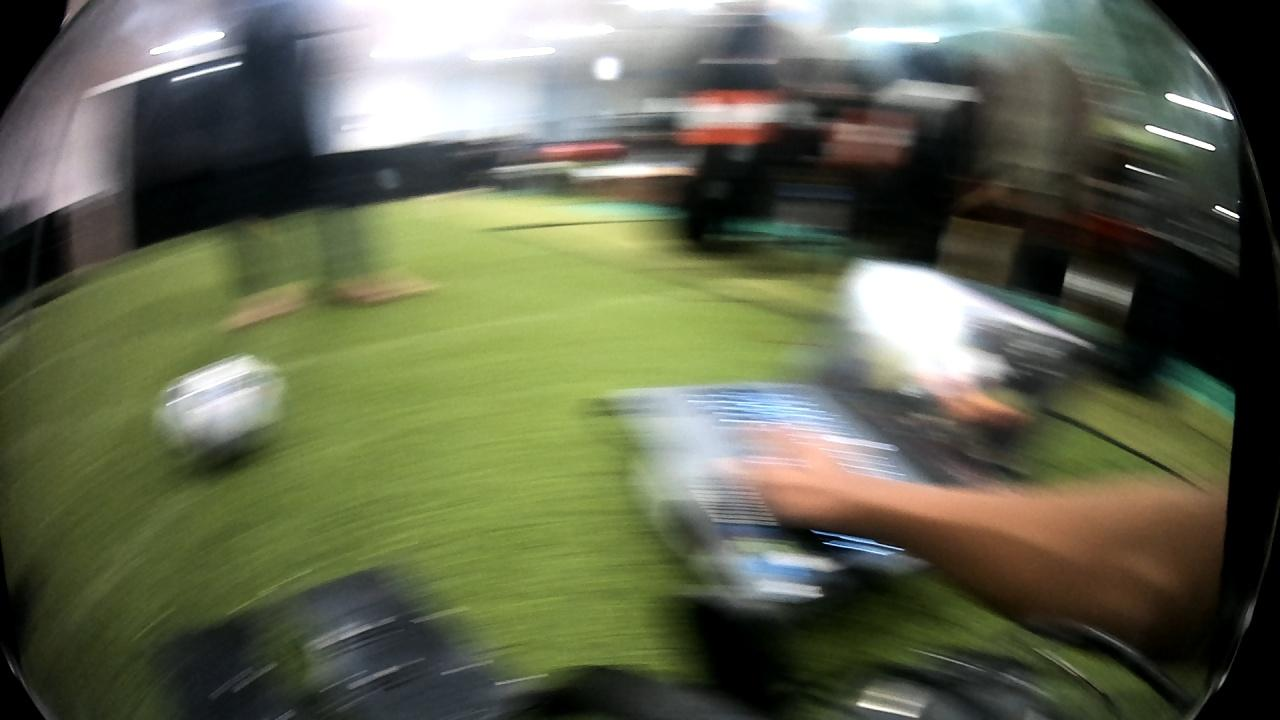ball: (143, 341, 310, 477)
